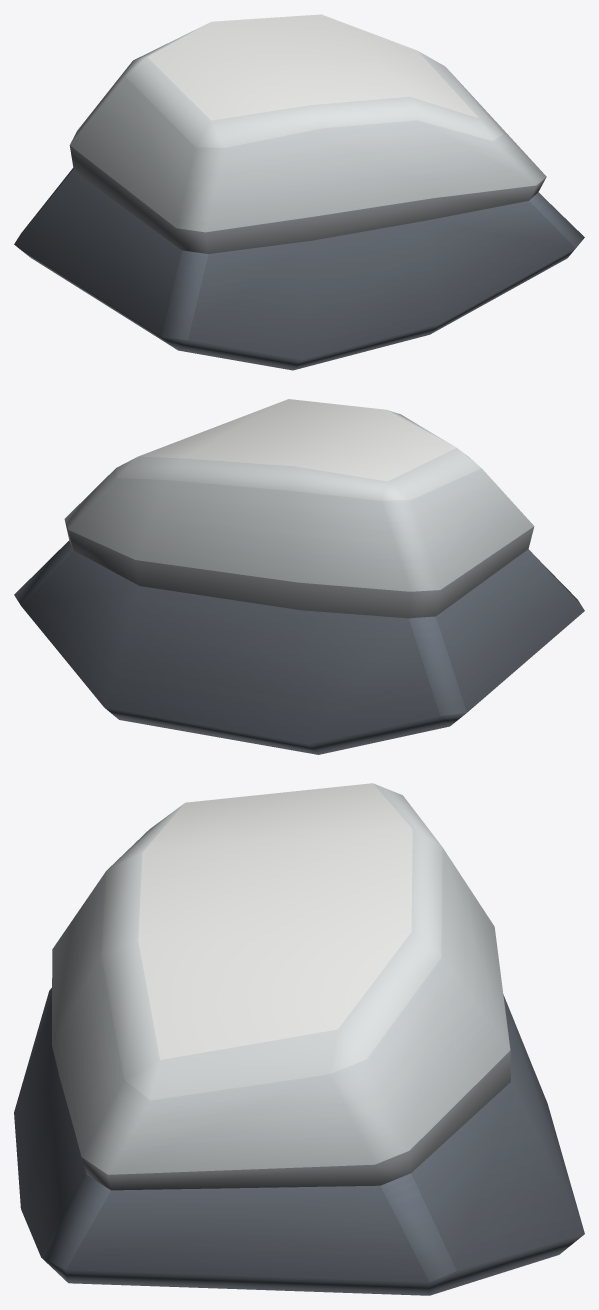
The model's file is rock_snow_016.fbx.
3 views of the same model, one above another, from view 1: azimuth 30°, elevation 25°; view 2: azimuth 150°, elevation 25°; view 3: azimuth 270°, elevation 25° (orthographic). The views are drawn at different scales.
Visible parts, largest first — view 1: rock_snow_016; view 2: rock_snow_016; view 3: rock_snow_016.
Part boxes in pixels (<box>): rock_snow_016: <box>14,14,584,370</box>; rock_snow_016: <box>14,399,584,754</box>; rock_snow_016: <box>14,783,584,1295</box>.
Size of the model in its own units: 197 by 100 by 151.
